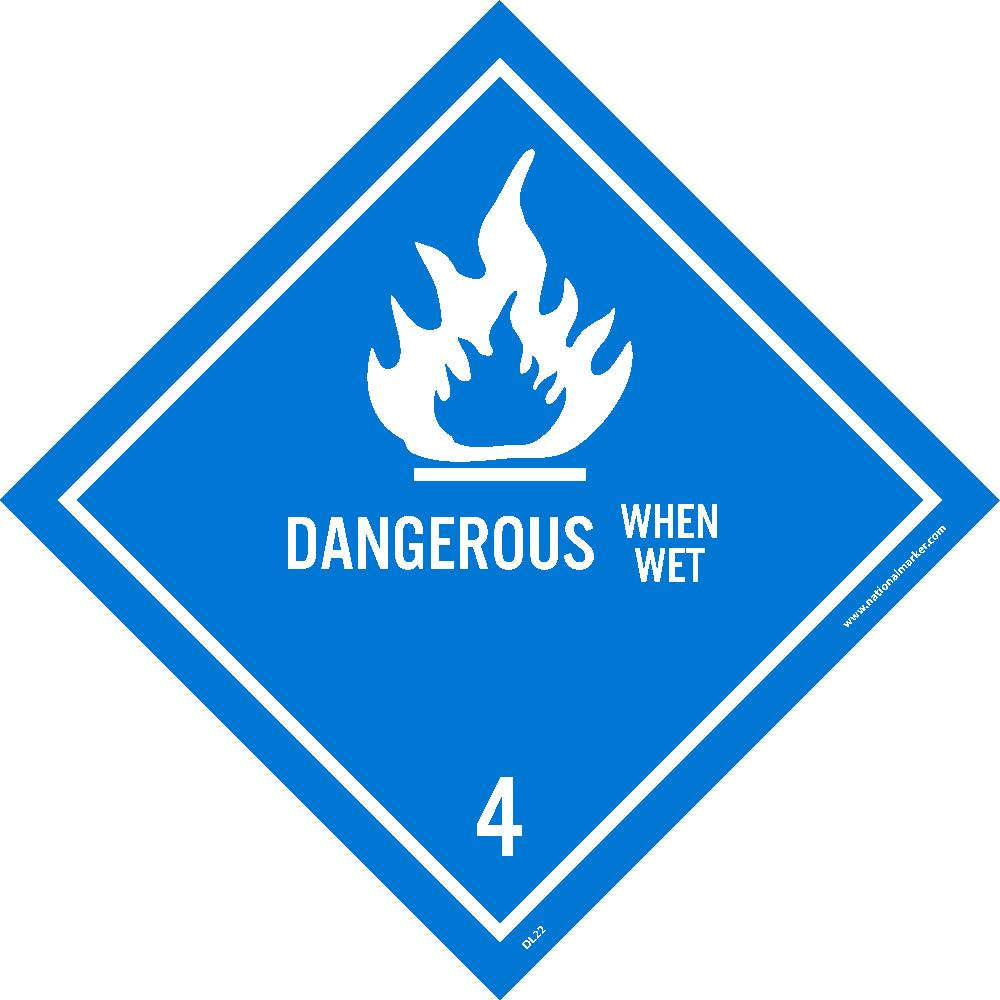DangerousWhenWet: (47, 35, 964, 949)
